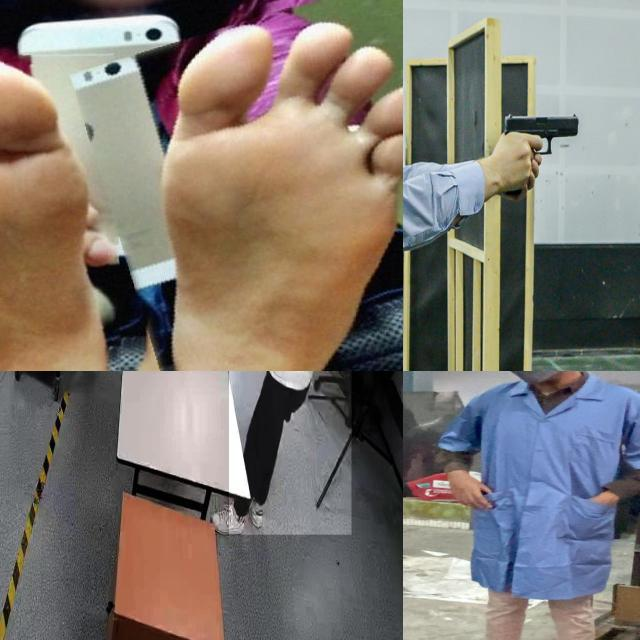Barefoots: (153, 16, 403, 371), (0, 56, 110, 371)
face_mask: (495, 371, 566, 386)
hand_noglove: (444, 473, 504, 513)
person: (426, 371, 640, 640), (229, 371, 352, 535)
shoes: (212, 500, 248, 538), (243, 475, 264, 535)
